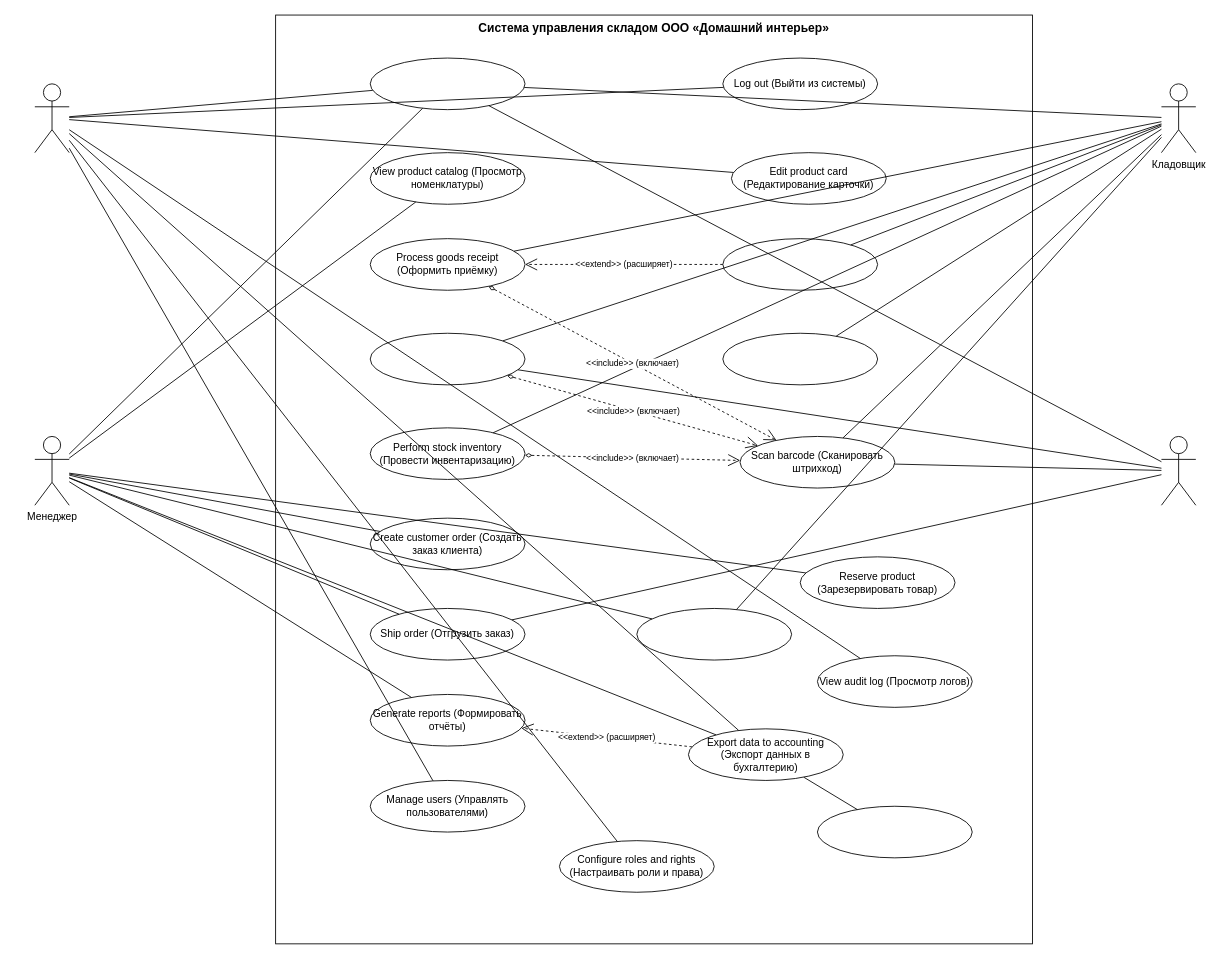
The diagram is 1220 pixels wide and 959 high, and some of its shapes have lost their labels. Here are the shapes that lost their labels. From the top down, the centre of each, then its label:
At pixel 447 83: "Log in (Авторизоваться)".
At pixel 51 118: "Администратор".
At pixel 800 264: "Place product into cell (Разместить товар в ячейку)".
At pixel 447 358: "Pick order by route (Собрать заказ по маршруту)".
At pixel 800 358: "Move product (Переместить товар)".
At pixel 1178 470: "Грузчик".
At pixel 714 634: "View warehouse map (Просмотреть карту склада)".
At pixel 894 831: "Backup database (Резервное копирование)".
